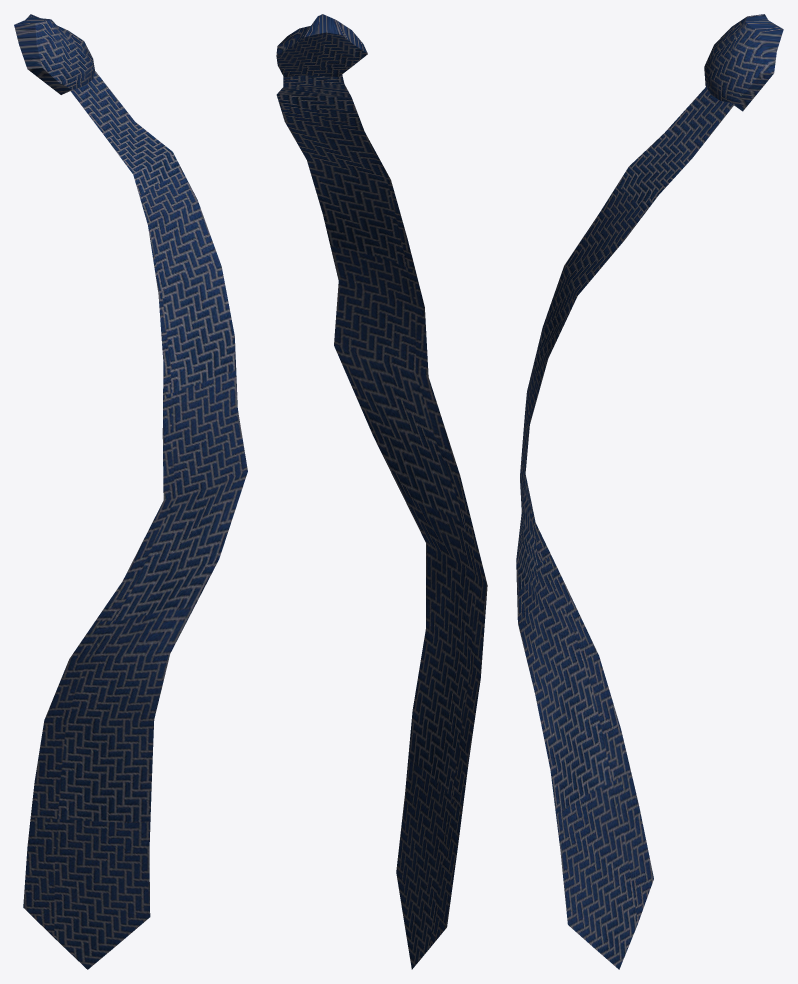
The model's file is Pose-12_SuitTie-3.fbx.
The picture shows the model from 3 angles, left to right: view 1: azimuth 30°, elevation 25°; view 2: azimuth 150°, elevation 25°; view 3: azimuth 270°, elevation 25°; orthographic projection. The views are drawn at different scales.
Parts seen in each view (by area): view 1: Pose-12_SuitTie-3; view 2: Pose-12_SuitTie-3; view 3: Pose-12_SuitTie-3.
Boxes of the visible parts, box(x1,y1,x2,y2) form: Pose-12_SuitTie-3: box(14, 14, 247, 969); Pose-12_SuitTie-3: box(276, 14, 487, 969); Pose-12_SuitTie-3: box(516, 14, 783, 969).
Bounding box in the file's own units: 10.51 × 53.89 × 13.62.
